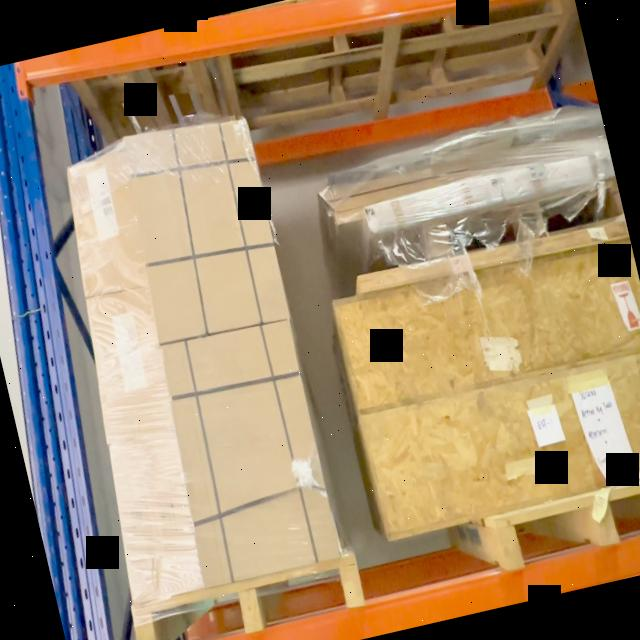box: (156, 322, 343, 583), (118, 117, 291, 344), (110, 438, 205, 597), (87, 285, 175, 443), (67, 150, 148, 295)
